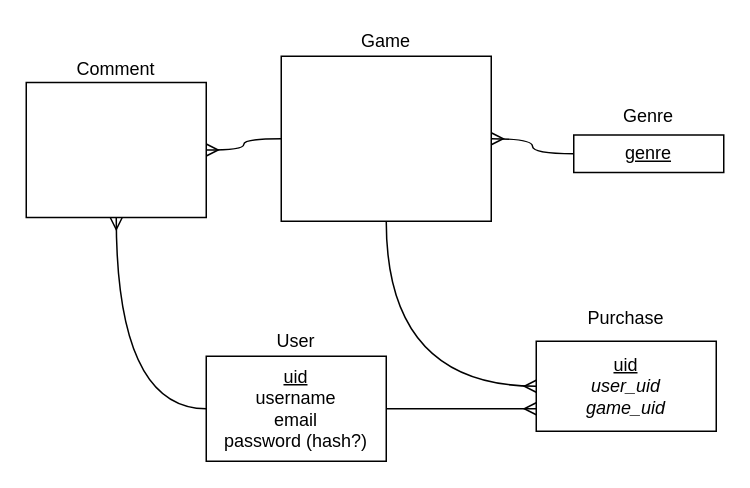
Image size: 750x488. Some labels were removed from this diagram. The centre of each missing label's shape, as x and y in pixels:
uid text user_uid game_uid rating (optional) creation_timestamp: the point at 115,149
uid title genre short_description long_description title_image release_date: the point at 385,138
